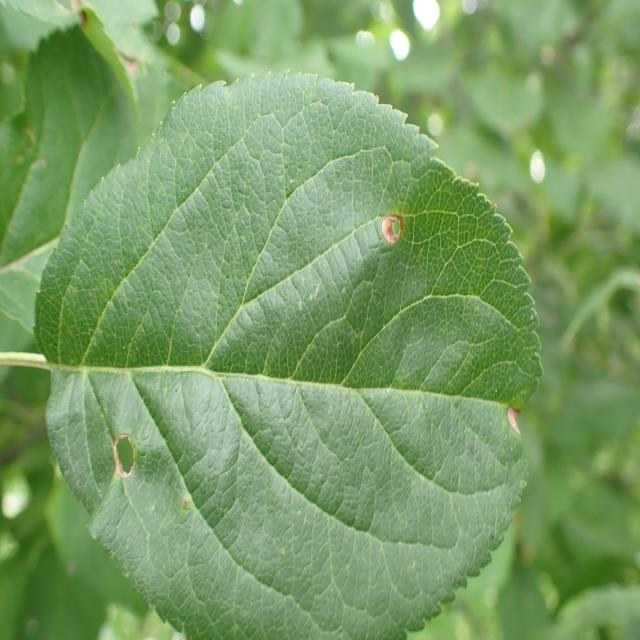Black Rot: (486, 373, 538, 467), (367, 184, 426, 260)
